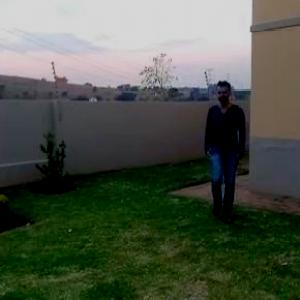follow: (205, 72, 261, 238)
